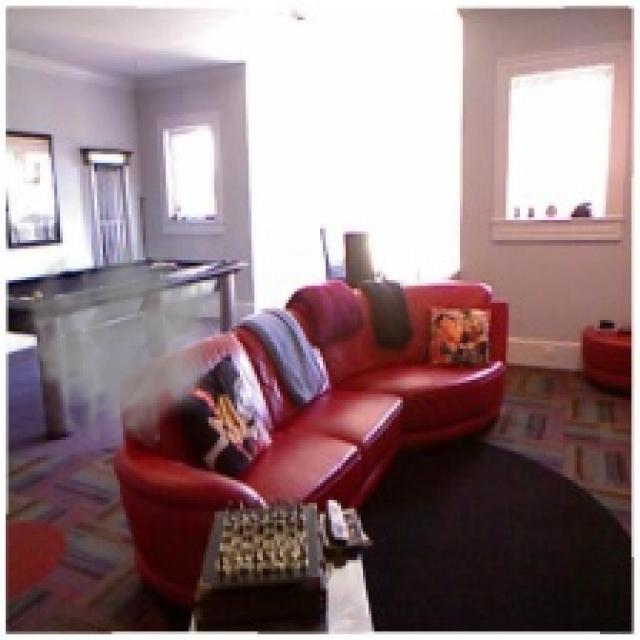smoke: (11, 237, 223, 452)
